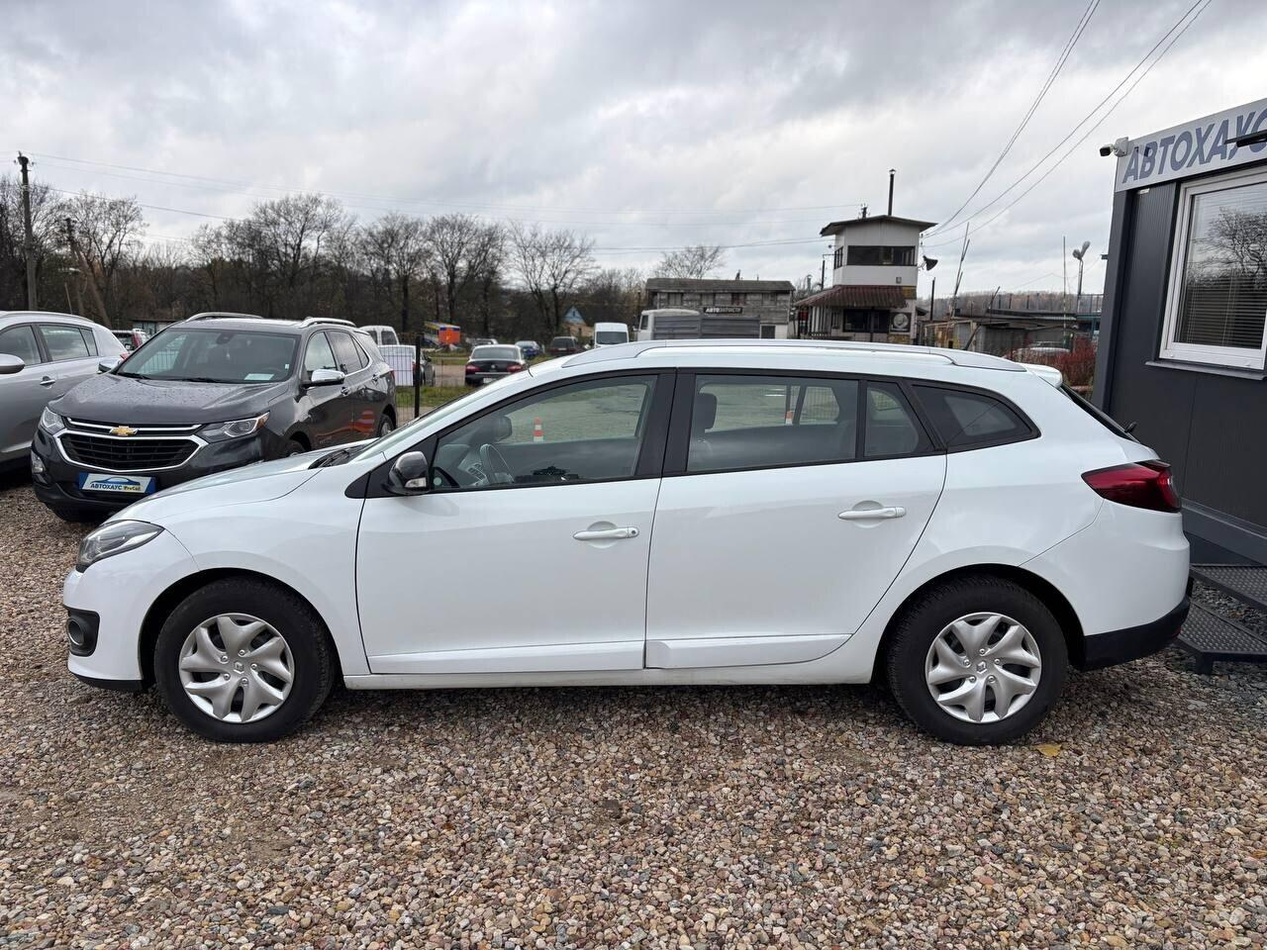Megane_2014-2016: (53, 345, 1194, 761)
